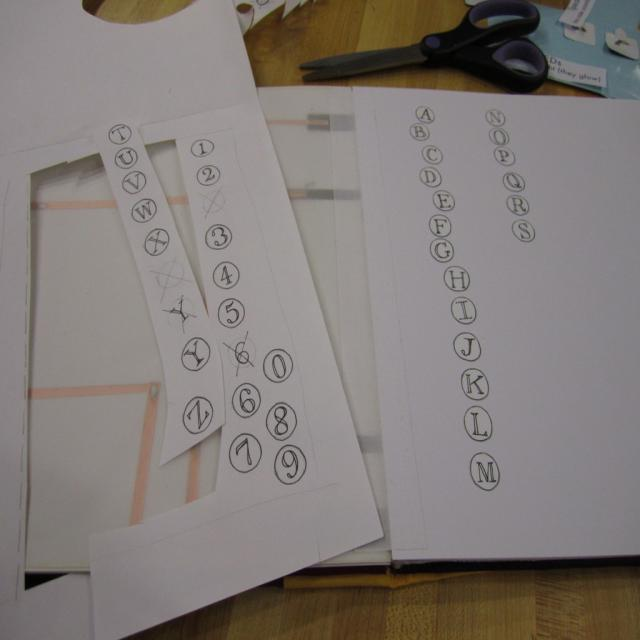scissors: (298, 0, 548, 93)
